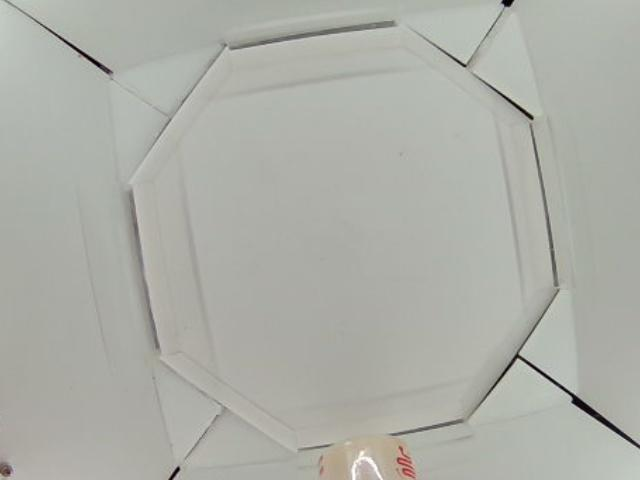Bottle: (317, 434, 415, 480)
